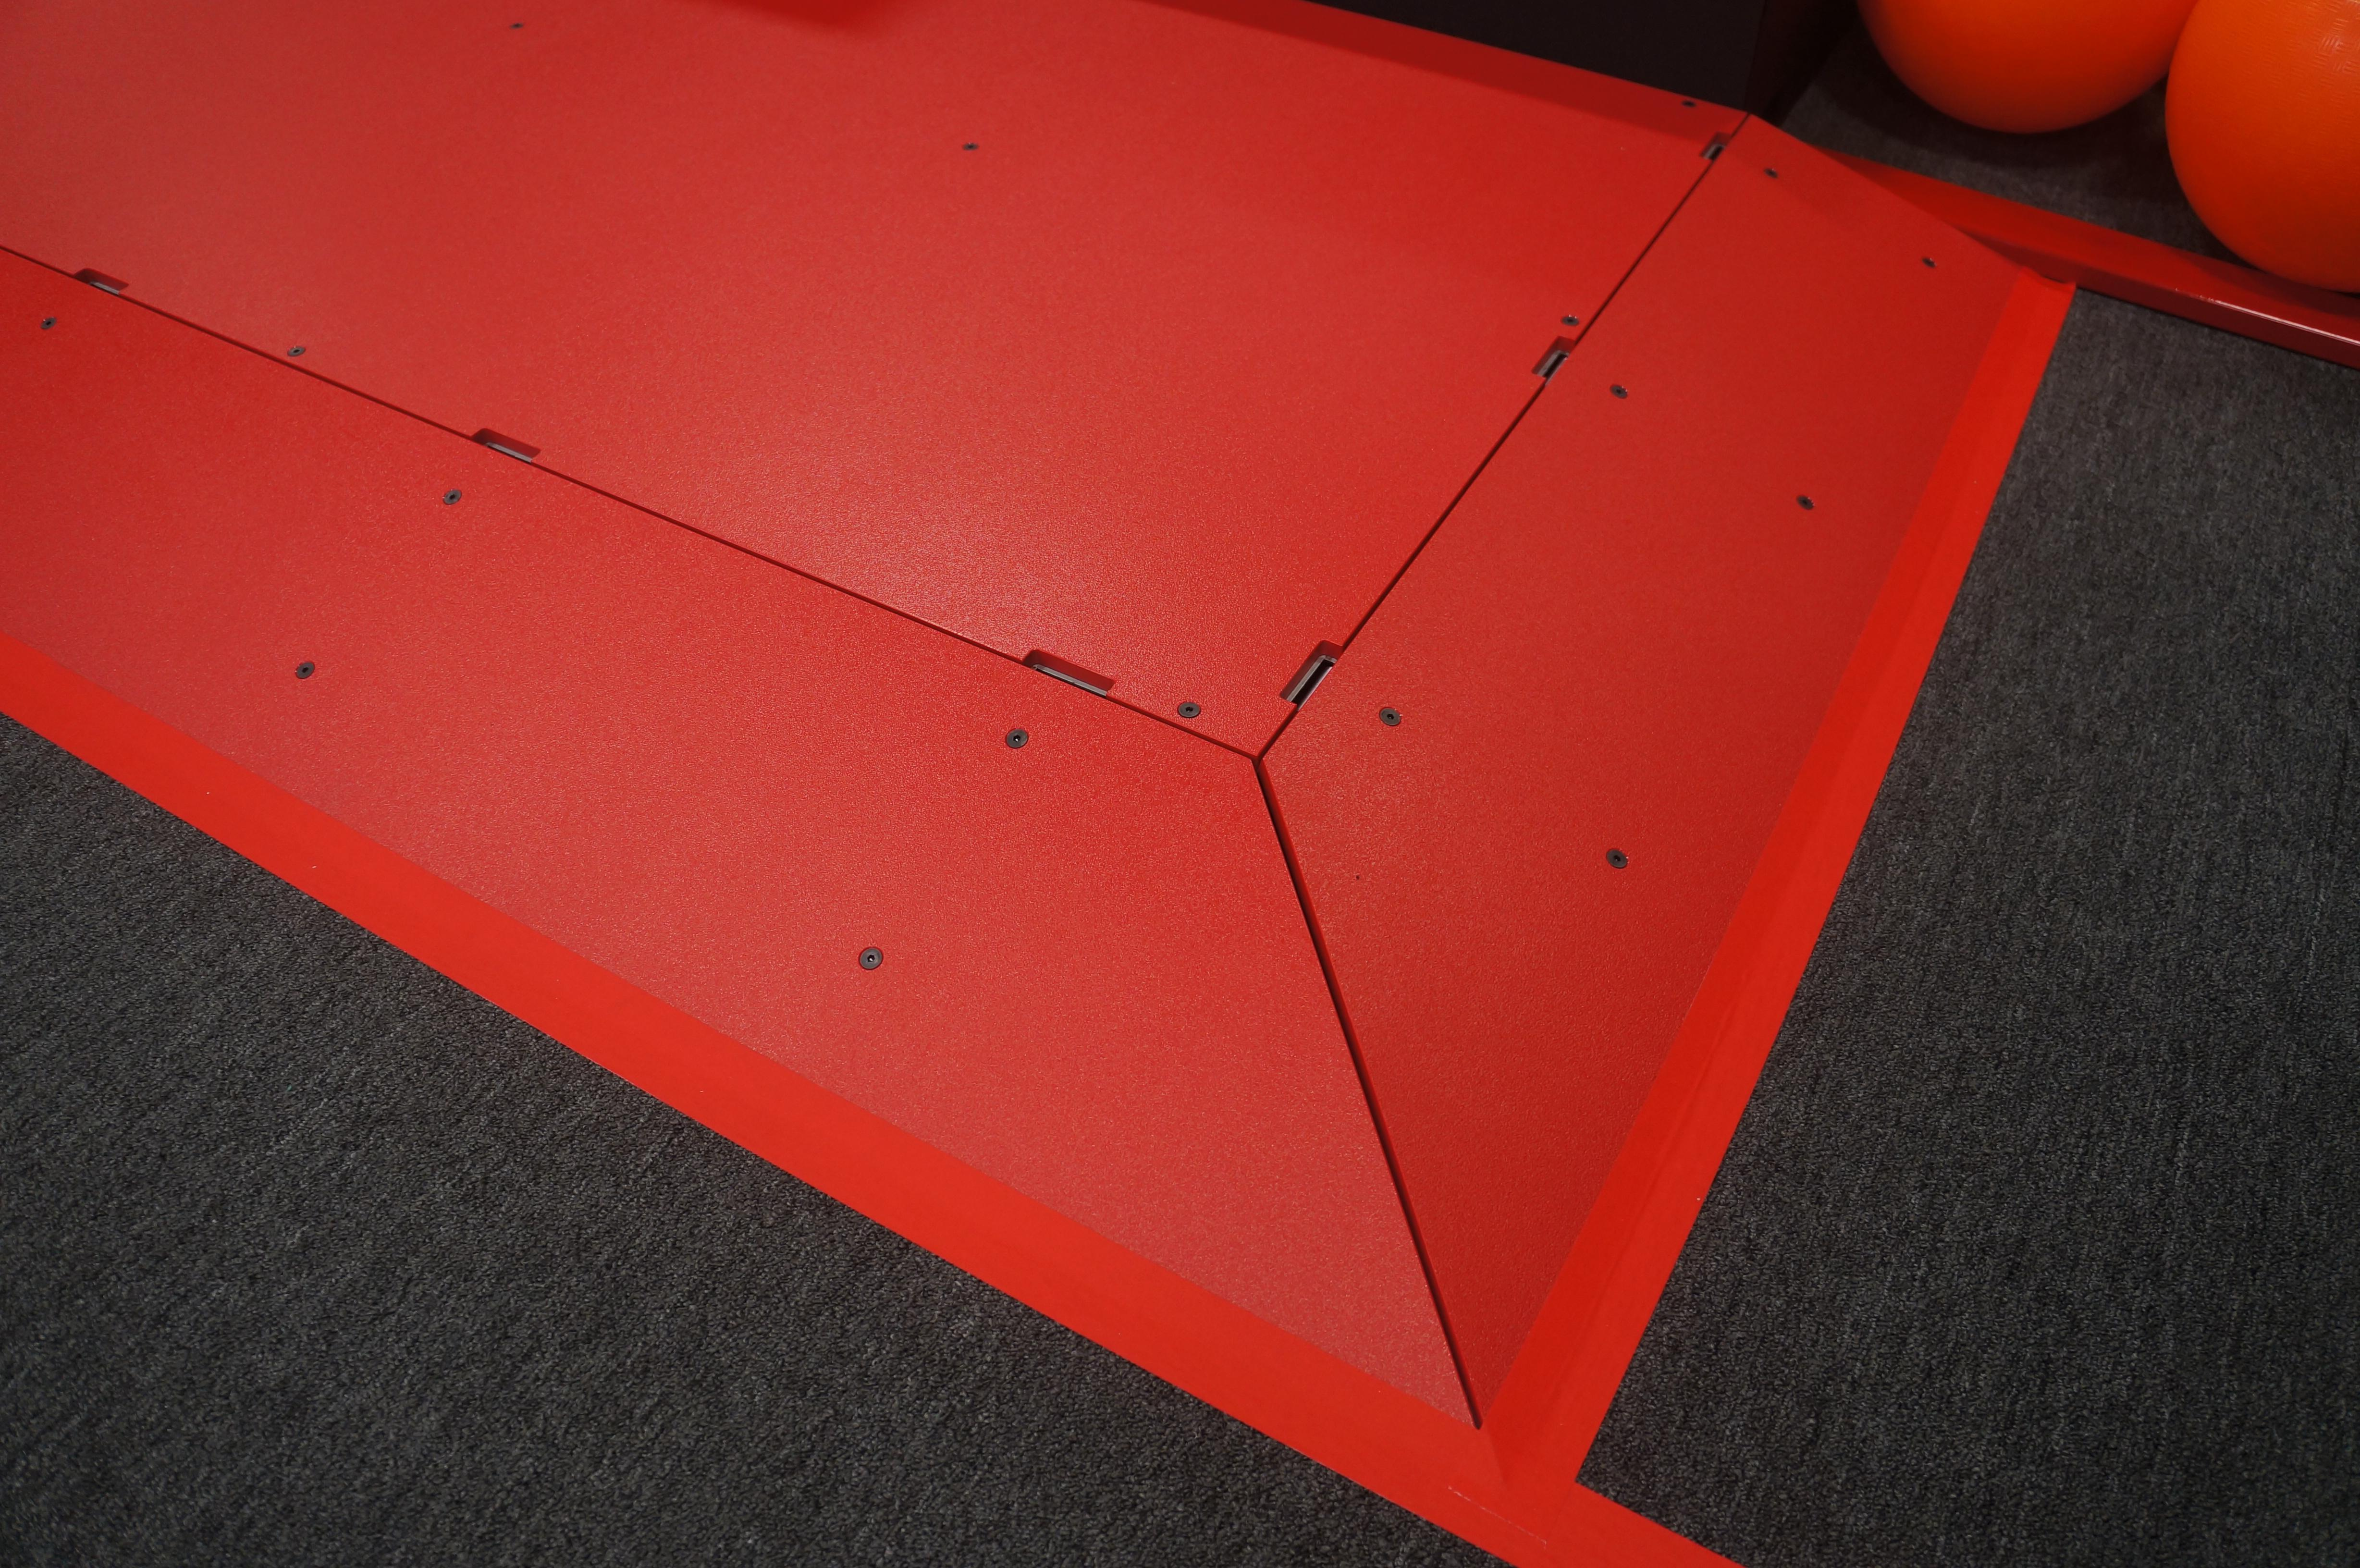Ball: (2164, 0, 2360, 297), (1846, 0, 2211, 133)
